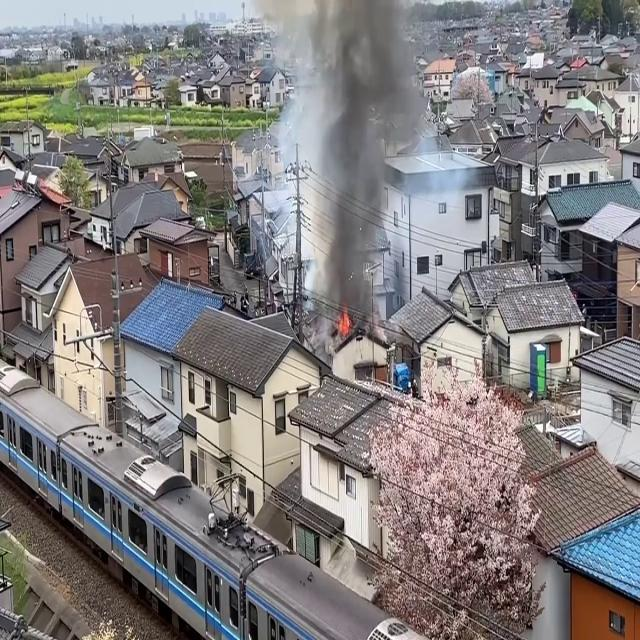Fire: (336, 302, 354, 342)
Smoke: (306, 1, 430, 311)
